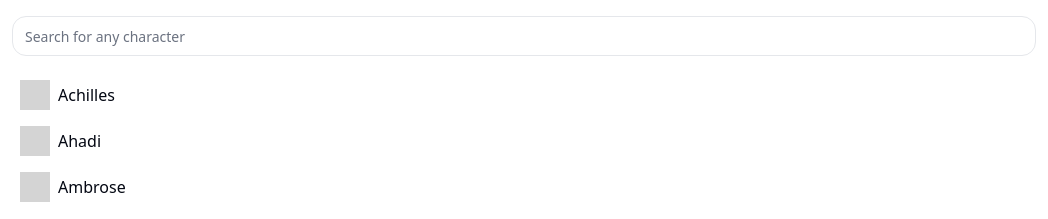
Scenario: Main success scenario › displays search results when entered a seach term
The width and height of the screenshot is (1048, 219).
Type "Ahadi" into the search field.
click(524, 36); type("Ahadi")  # box [12, 16, 1036, 56]
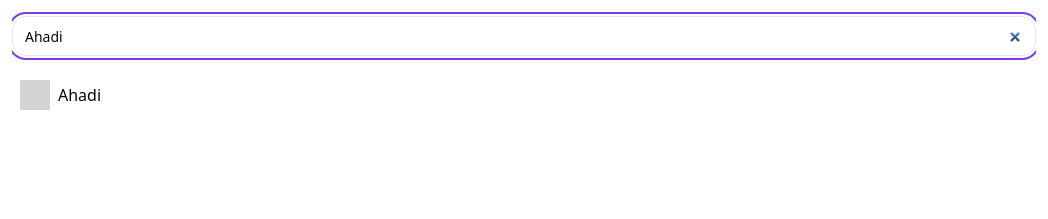
Check: the text "Ahadi" is shown, box [58, 83, 101, 107]
Check: the number of list items is 1, box [20, 80, 101, 110]
